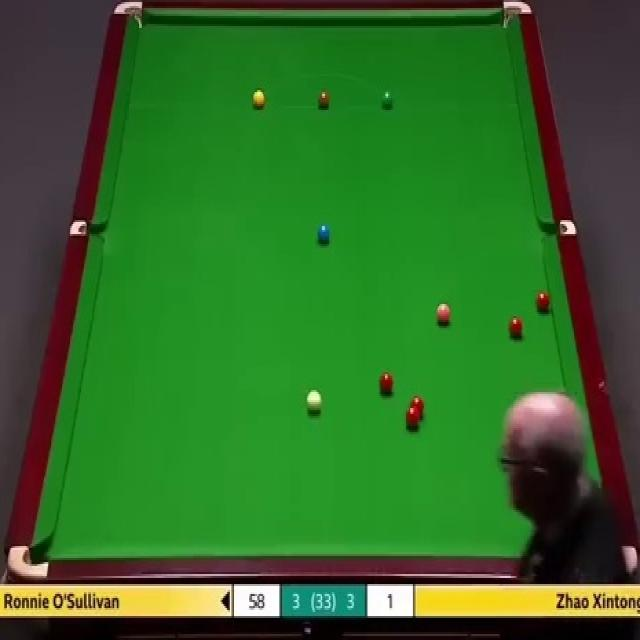pocket: (6, 544, 49, 579), (502, 2, 533, 32), (112, 1, 144, 30), (70, 221, 104, 240), (542, 222, 576, 240)
